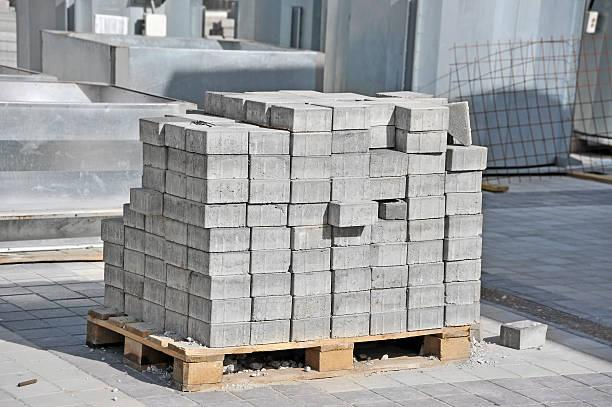Bricks: (206, 132, 249, 157), (206, 179, 249, 204), (294, 132, 333, 158), (251, 203, 291, 227), (210, 231, 252, 253), (253, 295, 293, 318), (253, 158, 293, 180), (211, 302, 254, 322), (333, 181, 376, 201), (409, 222, 448, 244), (449, 304, 486, 327), (293, 249, 333, 270), (339, 205, 379, 226), (369, 310, 407, 332), (407, 195, 445, 217), (213, 326, 249, 349), (206, 208, 247, 228), (253, 181, 291, 202), (252, 322, 290, 343), (290, 183, 332, 202), (207, 158, 248, 177), (212, 255, 249, 276), (373, 244, 410, 265), (251, 228, 291, 247), (334, 247, 374, 266), (447, 194, 485, 214), (444, 261, 480, 282), (249, 134, 288, 153), (296, 274, 333, 294), (295, 157, 327, 180), (334, 108, 367, 130), (373, 265, 406, 287), (410, 266, 443, 288), (364, 102, 394, 126), (249, 277, 293, 293), (296, 111, 333, 130), (445, 175, 484, 193), (294, 317, 332, 335), (335, 157, 370, 176), (409, 242, 444, 261), (376, 222, 409, 242), (253, 252, 289, 270), (293, 227, 329, 245), (412, 112, 448, 130), (410, 134, 446, 152), (294, 298, 332, 315), (334, 294, 372, 311), (164, 308, 187, 336), (211, 282, 251, 298), (409, 289, 444, 307), (446, 287, 487, 302), (291, 208, 327, 225), (336, 272, 370, 290), (454, 151, 486, 170), (131, 191, 157, 214), (335, 316, 370, 333), (372, 291, 407, 308), (450, 218, 483, 236), (411, 156, 448, 172), (164, 262, 185, 290), (333, 134, 369, 150), (334, 228, 370, 244), (165, 289, 189, 313), (365, 130, 397, 148), (374, 159, 408, 175), (186, 174, 204, 204), (101, 241, 123, 265), (450, 242, 481, 259), (189, 271, 212, 293), (187, 319, 209, 342), (272, 105, 292, 130), (407, 179, 445, 192), (144, 281, 163, 307), (377, 179, 404, 197), (101, 219, 123, 241), (410, 311, 444, 325), (123, 267, 140, 295), (106, 286, 124, 312), (142, 303, 164, 324), (520, 329, 548, 345), (281, 102, 330, 111), (139, 119, 159, 141), (164, 197, 184, 219), (190, 295, 209, 318), (401, 102, 449, 111), (124, 295, 141, 320), (188, 229, 208, 250), (224, 97, 246, 116), (146, 259, 164, 282), (189, 129, 206, 153), (313, 98, 363, 106), (189, 251, 210, 270), (106, 266, 124, 288), (127, 251, 144, 274), (164, 222, 184, 241), (188, 154, 206, 175), (142, 147, 167, 162), (166, 247, 185, 266), (246, 104, 266, 122), (169, 125, 185, 147), (502, 328, 519, 348), (167, 174, 184, 194), (384, 205, 406, 220), (256, 99, 322, 104), (333, 89, 365, 99), (144, 171, 165, 186), (187, 206, 204, 224), (126, 229, 142, 248), (201, 94, 221, 109), (169, 152, 182, 175), (284, 88, 321, 96), (146, 237, 161, 256), (504, 321, 544, 327), (124, 212, 141, 225), (149, 219, 163, 234), (219, 91, 252, 96), (237, 94, 280, 97), (382, 93, 430, 94)
